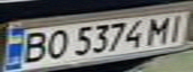3: (90, 21, 112, 54)
4: (124, 16, 151, 48)
5: (72, 24, 93, 56)
7: (106, 19, 130, 52)
B: (15, 29, 51, 65)
I: (163, 11, 190, 43)
M: (142, 14, 175, 45)
O: (39, 27, 72, 61)
